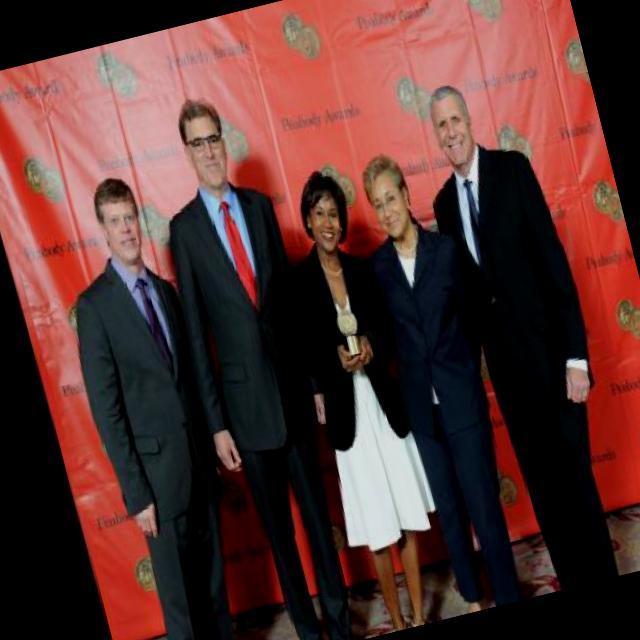Person: (126, 79, 386, 640), (401, 61, 640, 596), (35, 165, 275, 640), (251, 156, 463, 638), (344, 138, 553, 614)
